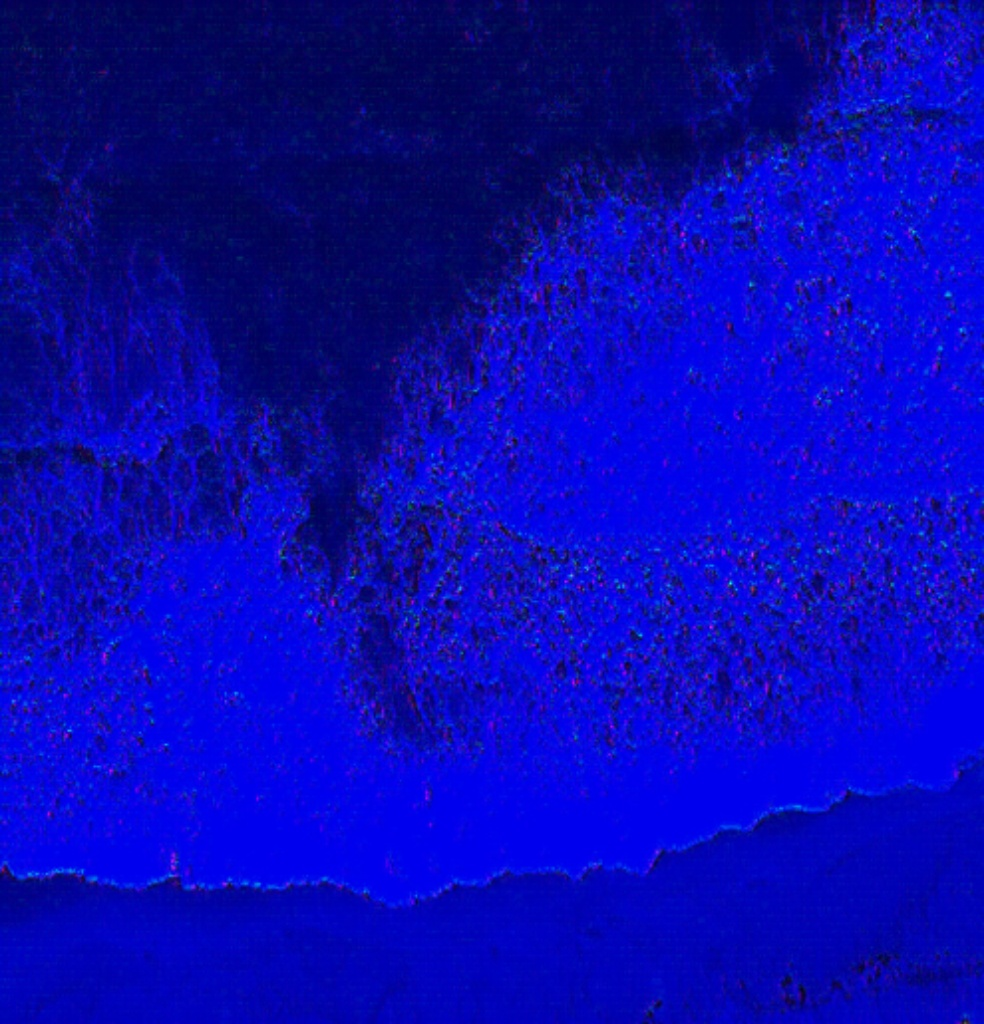rip_current: (220, 207, 517, 768)
